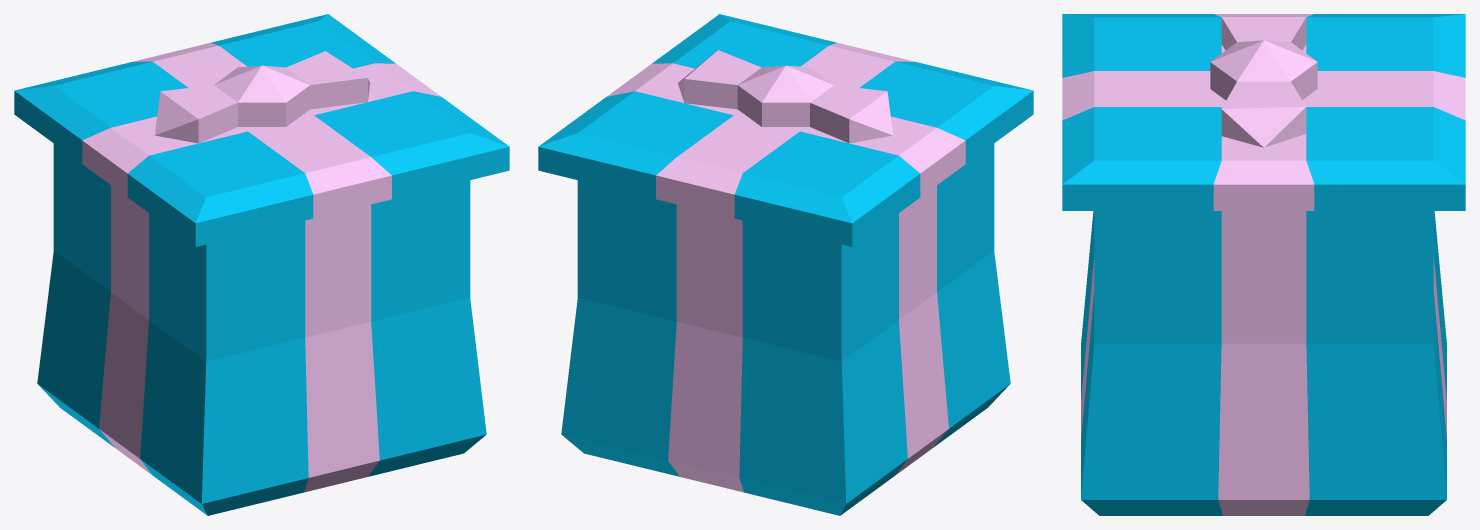
File: Present.fbx
The picture shows the model from 3 angles, left to right: view 1: azimuth 30°, elevation 25°; view 2: azimuth 150°, elevation 25°; view 3: azimuth 270°, elevation 25°; orthographic projection. The views are drawn at different scales.
Visible parts, largest first — view 1: Present; view 2: Present; view 3: Present.
Boxes of the visible parts, x1,y1,x2,y2 form: Present: [14, 14, 509, 515]; Present: [538, 14, 1033, 515]; Present: [1062, 14, 1465, 515].
Bounding box in the file's own units: 0.338 × 0.3753 × 0.338.
